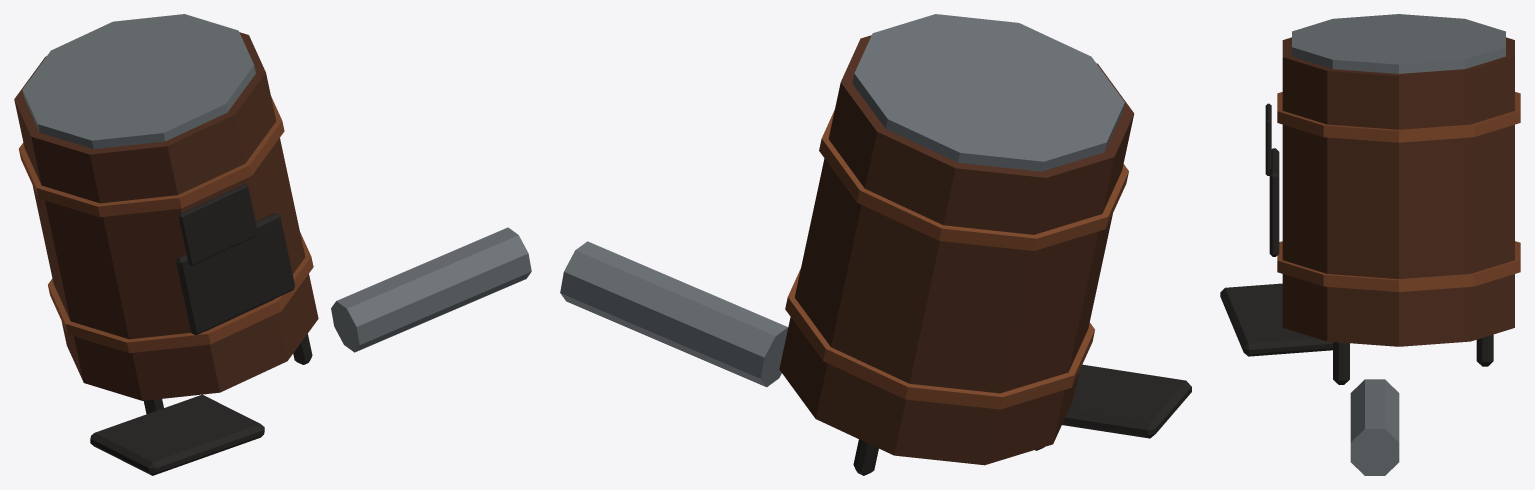
The model's file is stove_heat_stalnaya_bochka_broken.glb.
The picture shows the model from 3 angles, left to right: view 1: azimuth 30°, elevation 25°; view 2: azimuth 150°, elevation 25°; view 3: azimuth 270°, elevation 25°; orthographic projection. The views are drawn at different scales.
Parts seen in each view (by area): view 1: stove_heat_stalnaya_bochka_broken; view 2: stove_heat_stalnaya_bochka_broken; view 3: stove_heat_stalnaya_bochka_broken.
Boxes of the visible parts, x1=… form: stove_heat_stalnaya_bochka_broken: x1=14, y1=14, x2=531, y2=475; stove_heat_stalnaya_bochka_broken: x1=560, y1=14, x2=1191, y2=475; stove_heat_stalnaya_bochka_broken: x1=1220, y1=14, x2=1520, y2=475.
Bounding box in the file's own units: 1.09 × 0.7701 × 0.6267.
1 material, 1 textured.
